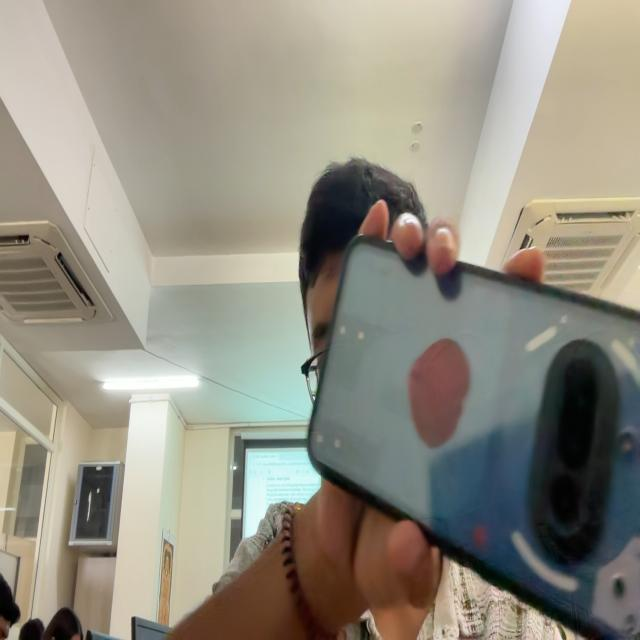Useful: (308, 238, 640, 639)
